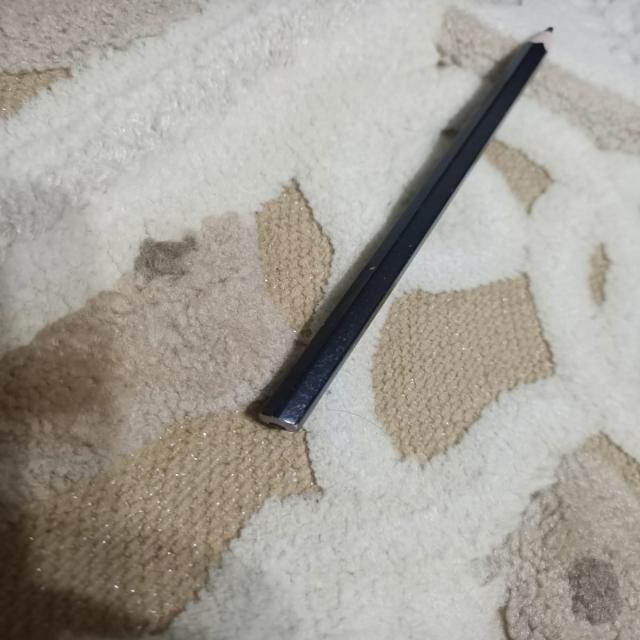pencil: (258, 26, 554, 432)
